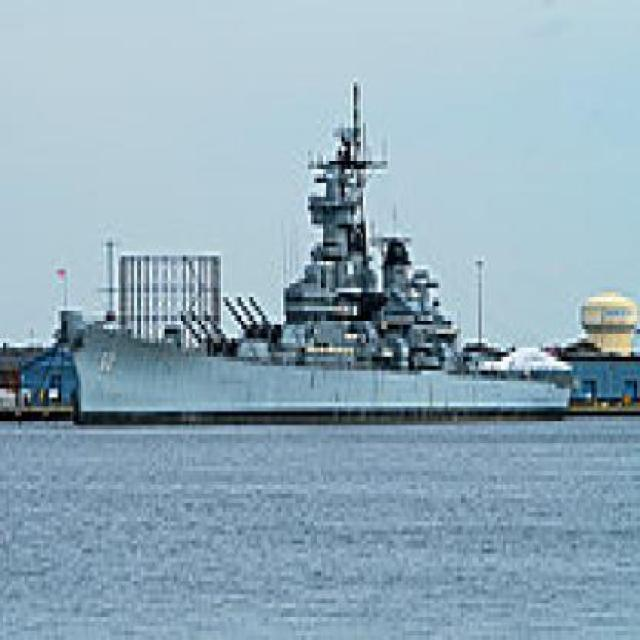warship2: (50, 79, 581, 450)
